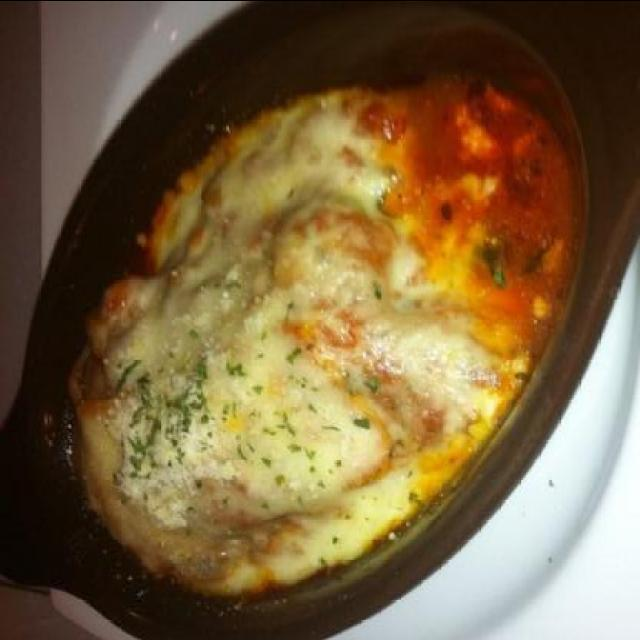Lasagna: (59, 47, 590, 590)
